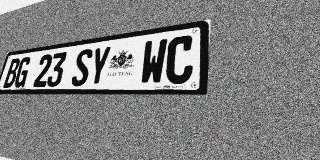2: (33, 54, 53, 87)
3: (46, 52, 67, 87)
B: (3, 58, 21, 88)
C: (164, 35, 195, 84)
G: (13, 56, 32, 88)
S: (70, 48, 94, 86)
W: (139, 38, 168, 85)
Y: (87, 46, 112, 86)
